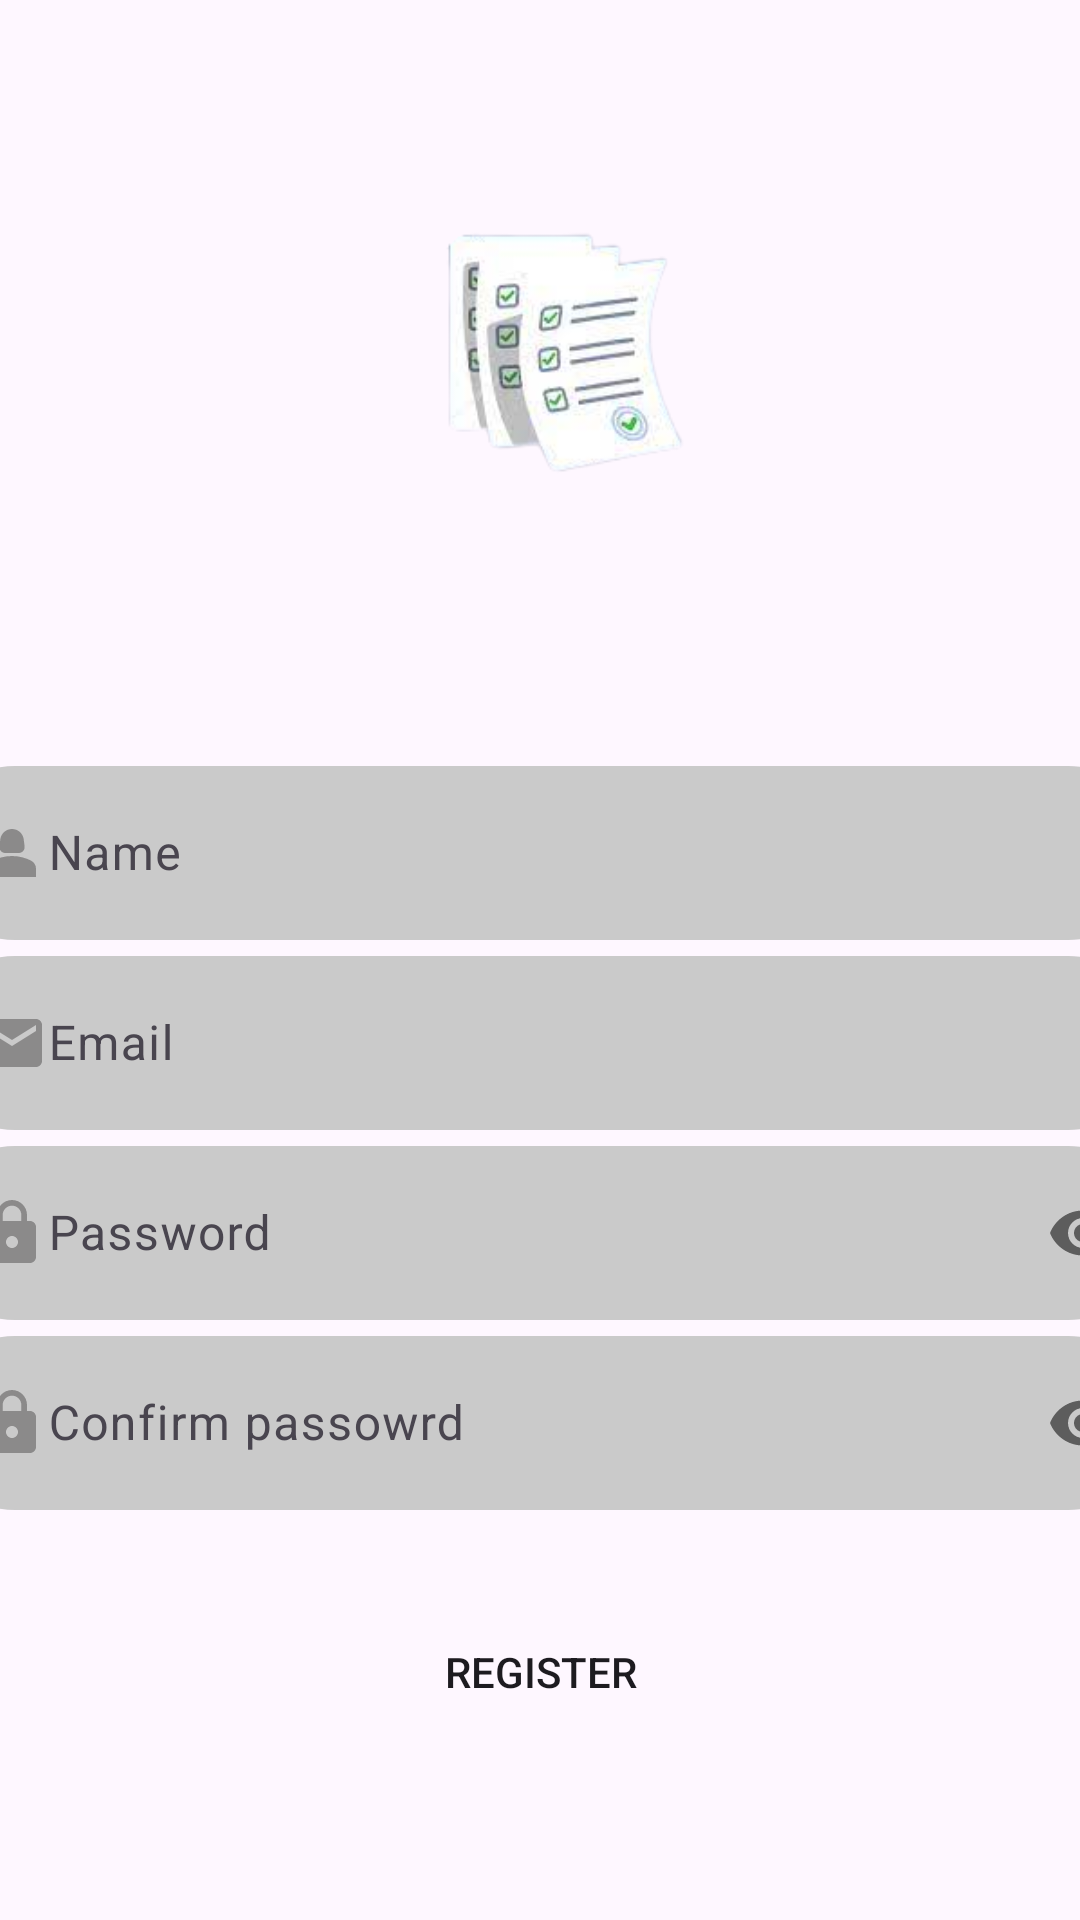

Icon bounding boxes for this 1080px×1920px phone screenshot, format [x1, y1, x2, y2]:
exam: [448, 235, 681, 471]
